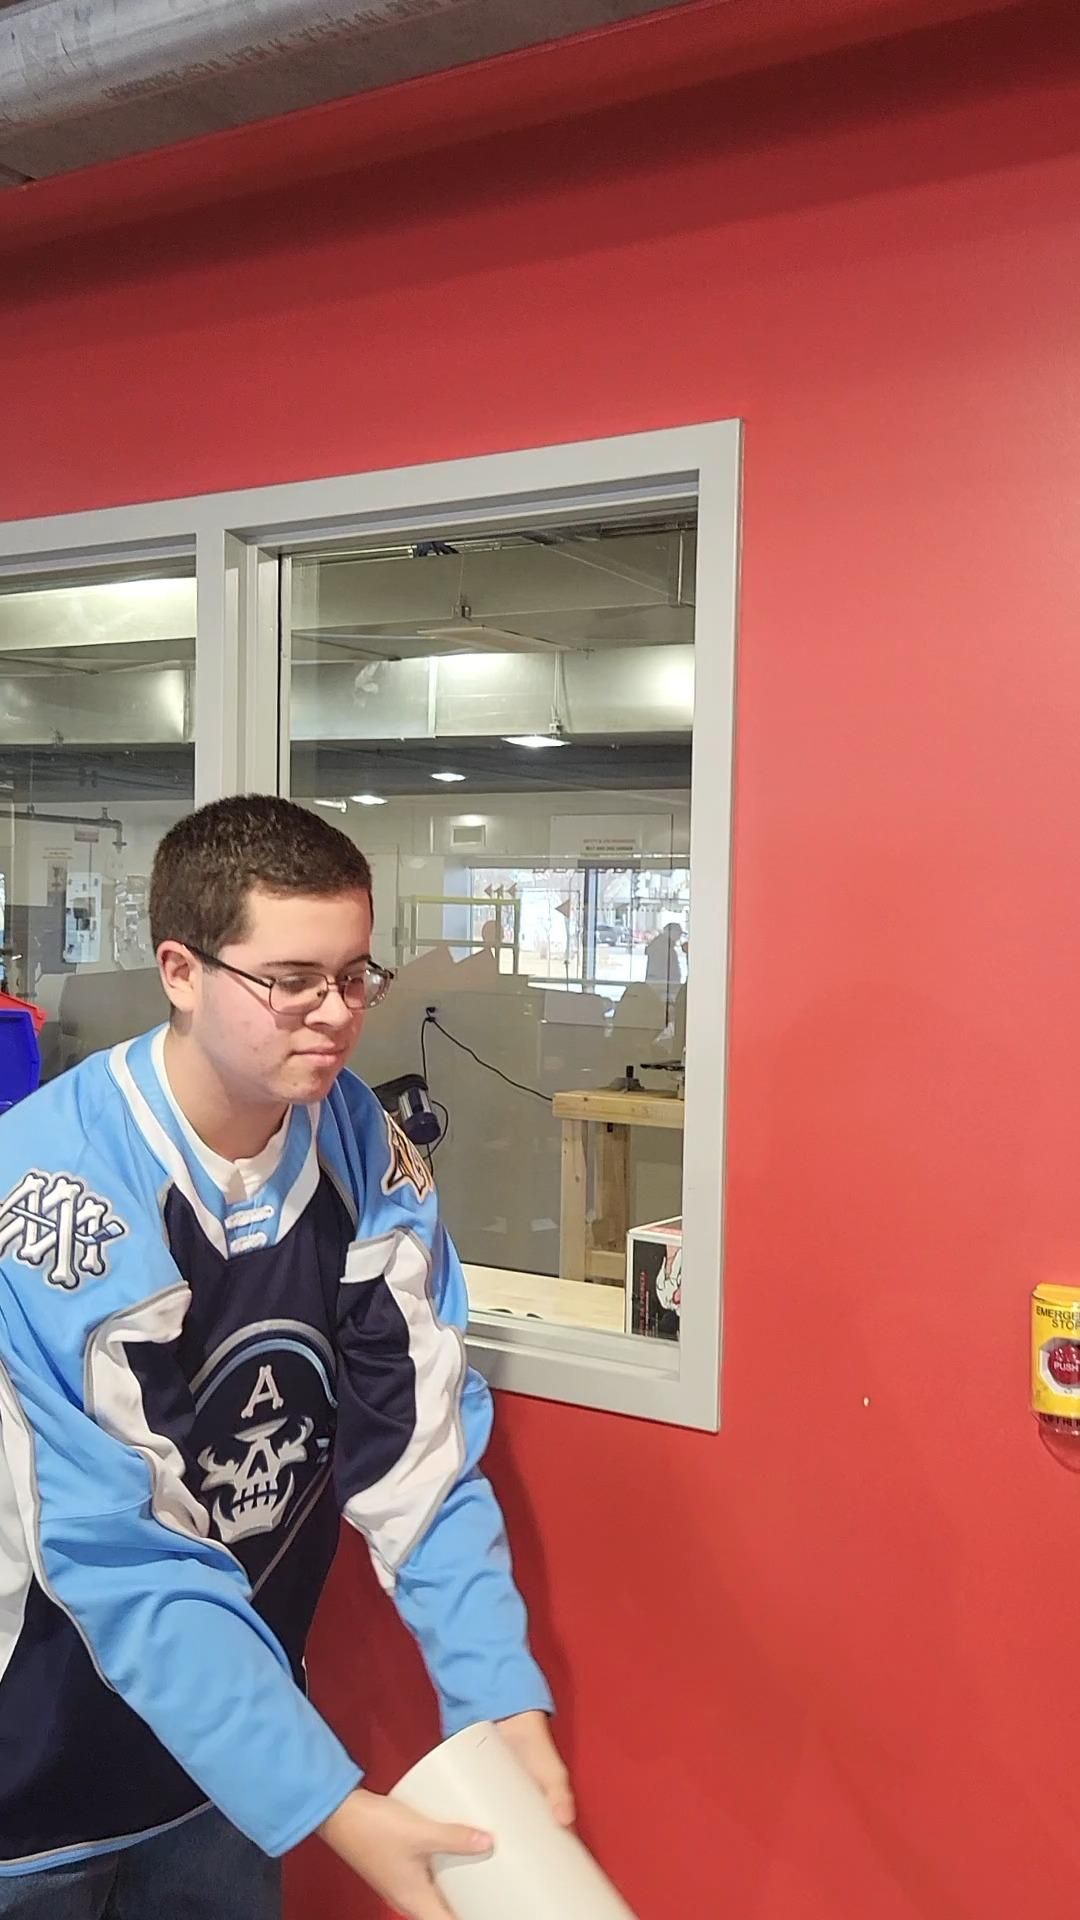coral: (377, 1717, 644, 1920)
